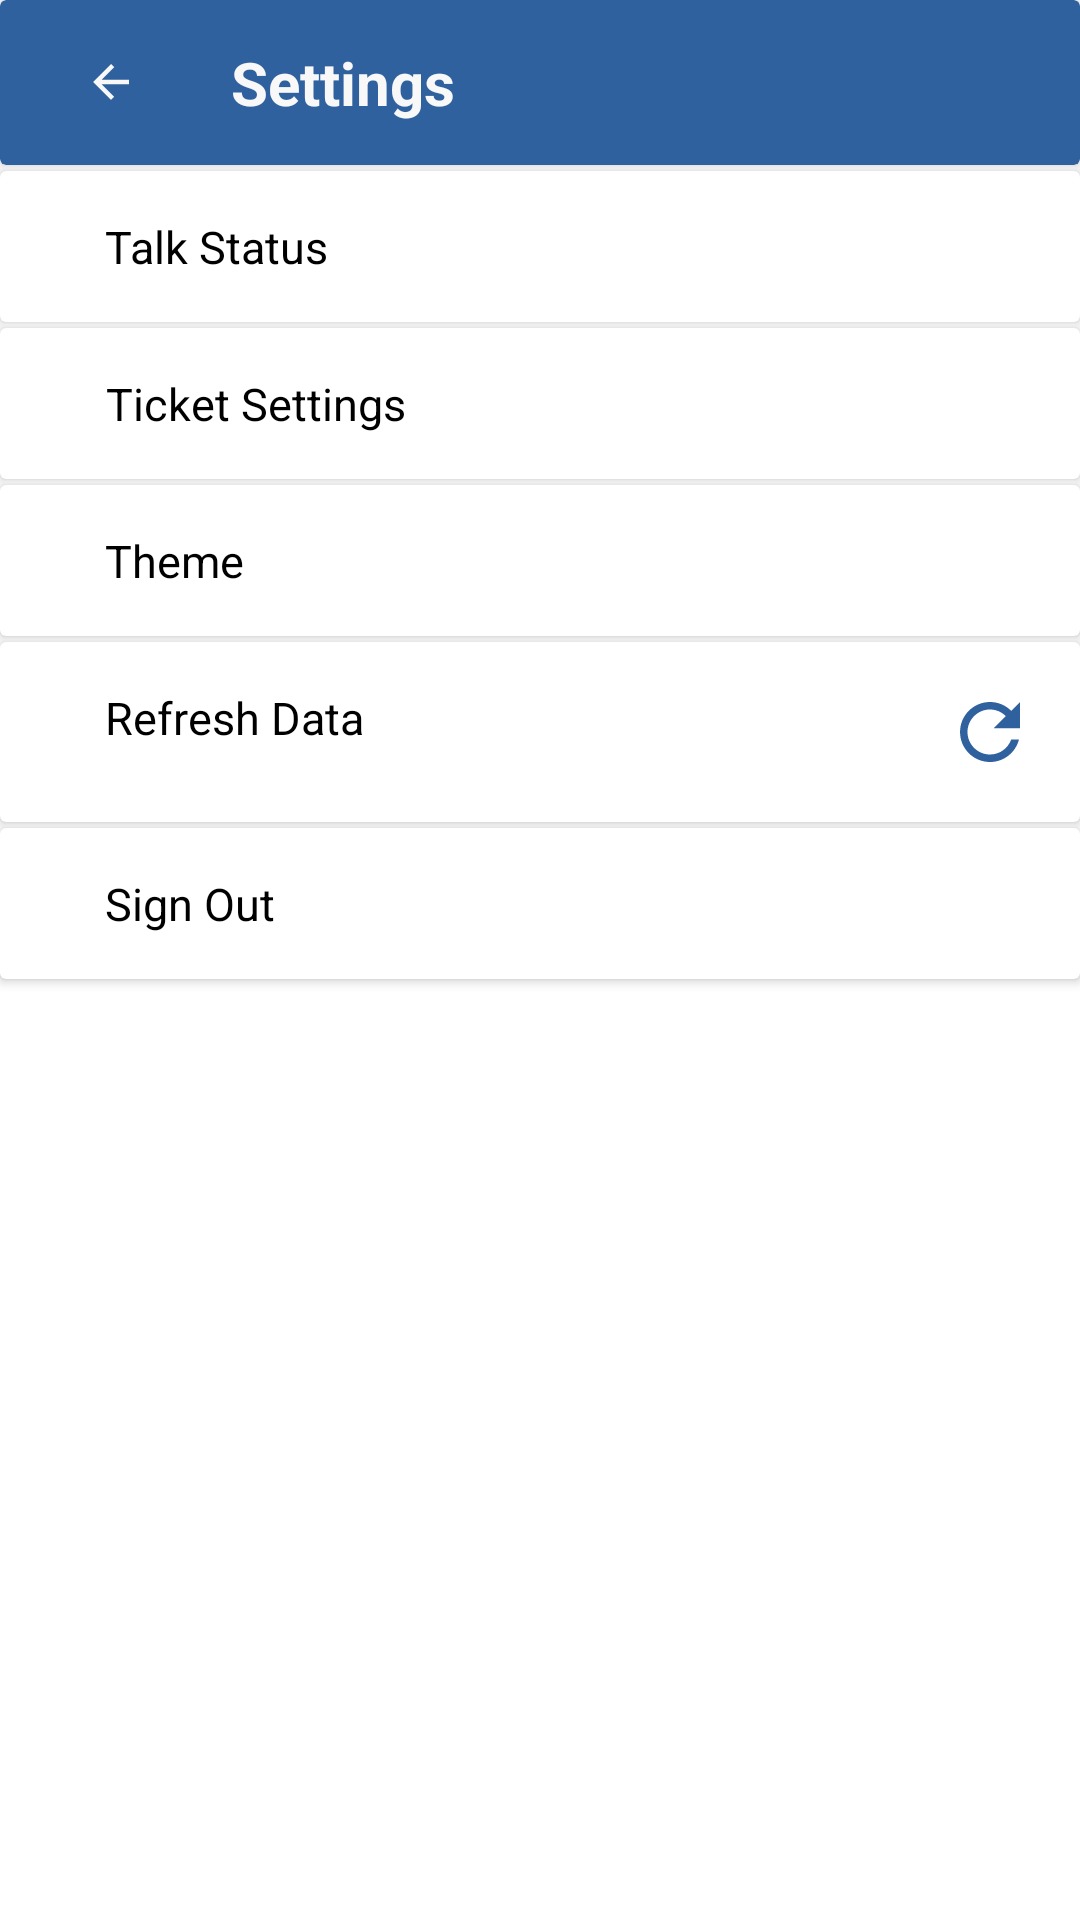

Screen size 1080px×1920px. Icon name, then its box in pixels as (x1, y1, x2, y2):
arrow back: (93, 64, 129, 100)
refresh: (960, 702, 1020, 762)
